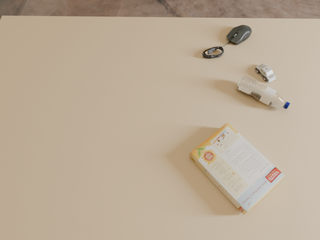bottle: (237, 76, 290, 109)
box: (190, 123, 284, 214)
mouse: (226, 25, 252, 45)
toy_car: (255, 64, 276, 83)
